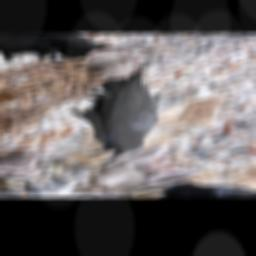Crow: (20, 63, 223, 165)
